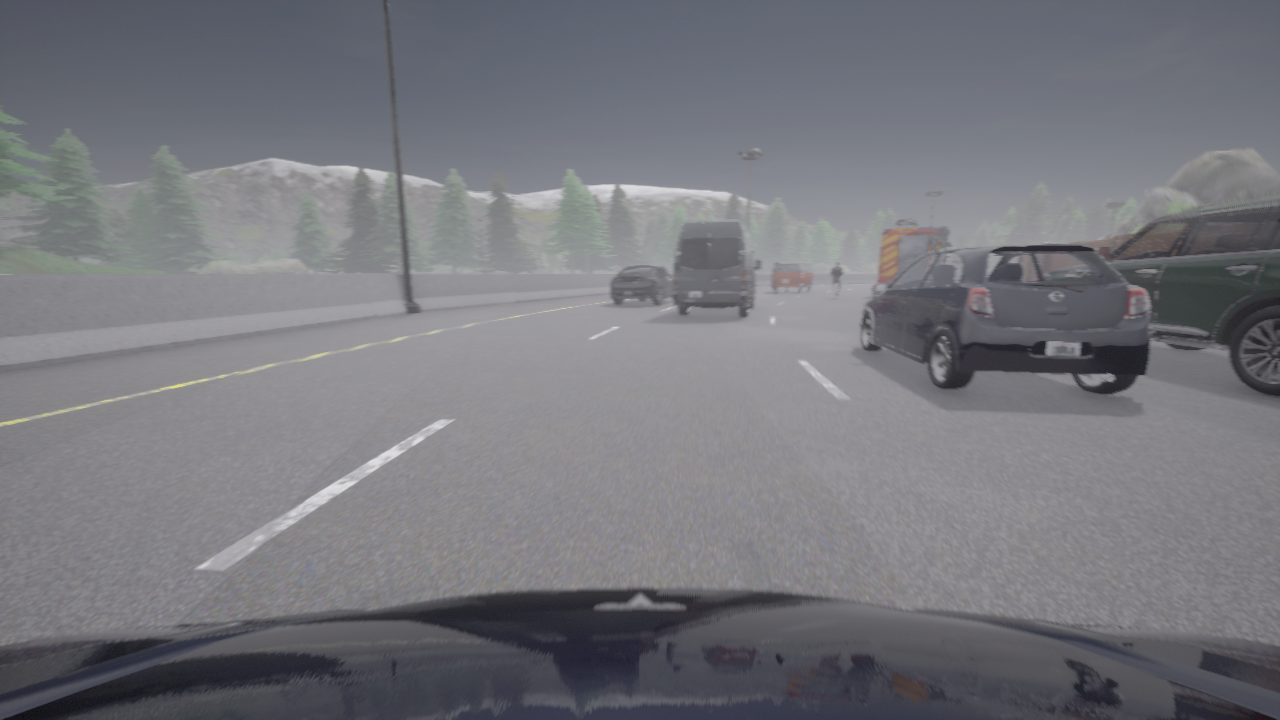cyclist: (0, 588, 1279, 719), (860, 245, 1150, 394), (1096, 193, 1279, 396), (673, 220, 760, 316), (878, 218, 950, 283), (611, 265, 673, 304), (772, 261, 814, 292), (834, 282, 837, 298)
